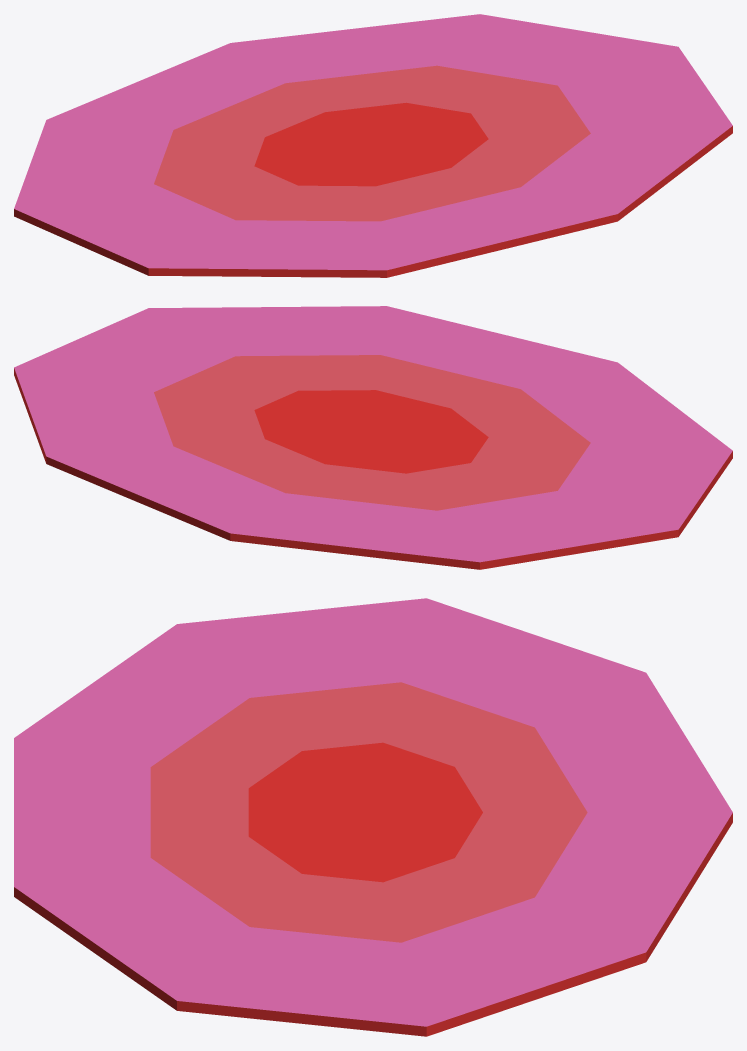
Rendered from CarpetRed.fbx.
3 renders of one model, top to bottom at view 1: azimuth 30°, elevation 25°; view 2: azimuth 150°, elevation 25°; view 3: azimuth 270°, elevation 25°, orthographic. The views are drawn at different scales.
Parts seen in each view (by area): view 1: Circle; view 2: Circle; view 3: Circle.
Boxes of the visible parts, x1,y1,x2,y2 form: Circle: (14,14,732,277); Circle: (14,306,732,569); Circle: (14,598,732,1036).
Bounding box in the file's own units: 85.97 × 0.934 × 60.96.
